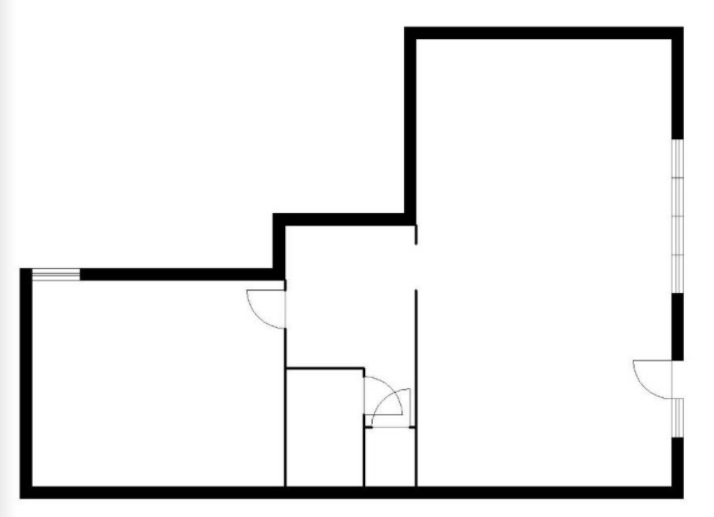door: (237, 285, 281, 339), (624, 347, 668, 401)
wall: (43, 486, 681, 499), (426, 25, 681, 40), (19, 285, 32, 497), (85, 267, 282, 279), (404, 24, 415, 222), (275, 212, 401, 224)
window: (672, 137, 684, 292), (32, 268, 80, 280), (672, 399, 686, 437)
